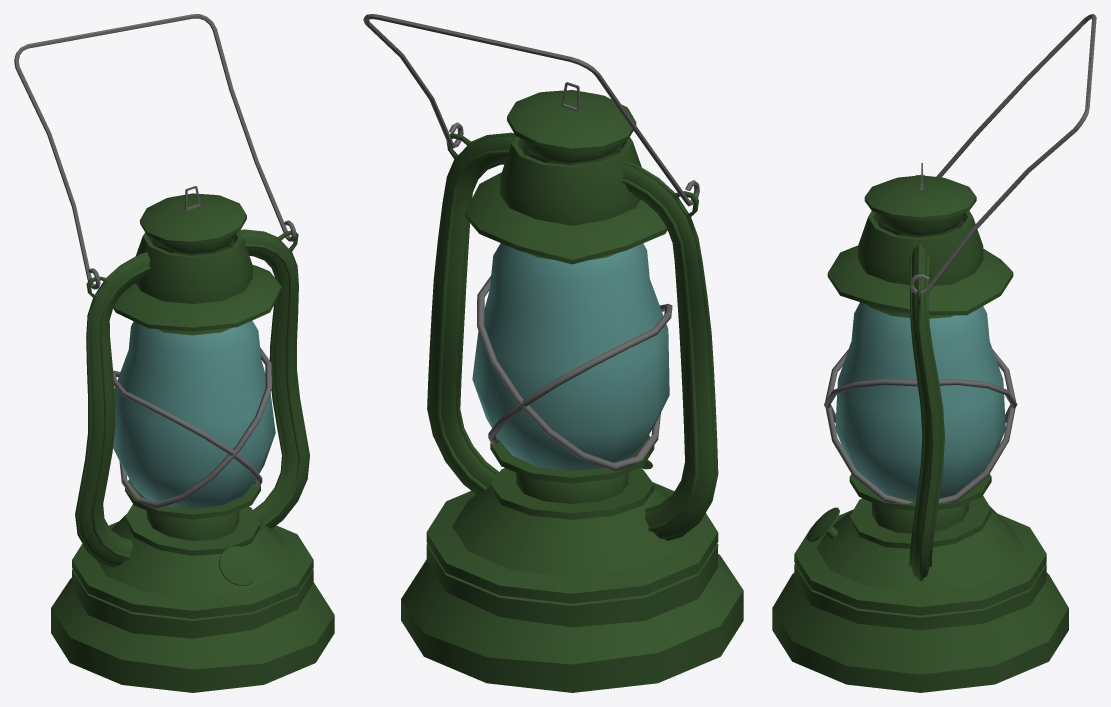
File: Lantern_low.fbx
3 views of the same model, side by side, from view 1: azimuth 30°, elevation 25°; view 2: azimuth 150°, elevation 25°; view 3: azimuth 270°, elevation 25° (orthographic). The views are drawn at different scales.
Visible parts, largest first — view 1: Lantern_Base_low, Lantern_Glass_low, Lantern_Top_low, Lanturn_Frame_R_low, Lanturn_Frame_L_low, Lantern_Handle_low, Lantern_Ring_low, Lantern_Valve_low; view 2: Lantern_Base_low, Lantern_Glass_low, Lantern_Top_low, Lanturn_Frame_R_low, Lanturn_Frame_L_low, Lantern_Ring_low, Lantern_Handle_low; view 3: Lantern_Base_low, Lantern_Glass_low, Lantern_Top_low, Lanturn_Frame_L_low, Lantern_Ring_low, Lantern_Handle_low, Lantern_Valve_low.
Boxes of the visible parts, bbox=[...] form: Lantern_Base_low: bbox=[51, 479, 334, 692]; Lantern_Glass_low: bbox=[113, 320, 275, 509]; Lantern_Top_low: bbox=[113, 193, 281, 335]; Lanturn_Frame_R_low: bbox=[75, 252, 150, 566]; Lanturn_Frame_L_low: bbox=[233, 229, 309, 528]; Lantern_Handle_low: bbox=[14, 14, 296, 289]; Lantern_Ring_low: bbox=[113, 347, 271, 508]; Lantern_Valve_low: bbox=[219, 546, 259, 585]; Lantern_Base_low: bbox=[401, 435, 743, 692]; Lantern_Glass_low: bbox=[472, 243, 669, 471]; Lantern_Top_low: bbox=[465, 90, 667, 264]; Lanturn_Frame_R_low: bbox=[622, 161, 718, 540]; Lanturn_Frame_L_low: bbox=[427, 132, 523, 494]; Lantern_Ring_low: bbox=[477, 275, 672, 470]; Lantern_Handle_low: bbox=[363, 14, 699, 206]; Lantern_Base_low: bbox=[772, 474, 1068, 692]; Lantern_Glass_low: bbox=[835, 302, 1005, 499]; Lantern_Top_low: bbox=[827, 175, 1013, 318]; Lanturn_Frame_L_low: bbox=[909, 244, 944, 581]; Lantern_Ring_low: bbox=[824, 349, 1017, 503]; Lantern_Handle_low: bbox=[909, 14, 1096, 294]; Lantern_Valve_low: bbox=[806, 507, 839, 541].
Bounding box in the file's own units: 6.69 × 14.25 × 7.32.
